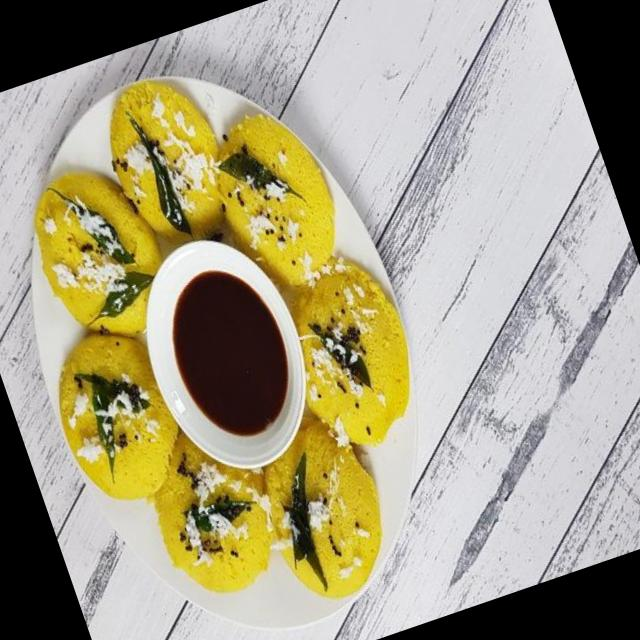dhokla: (0, 37, 481, 640)
